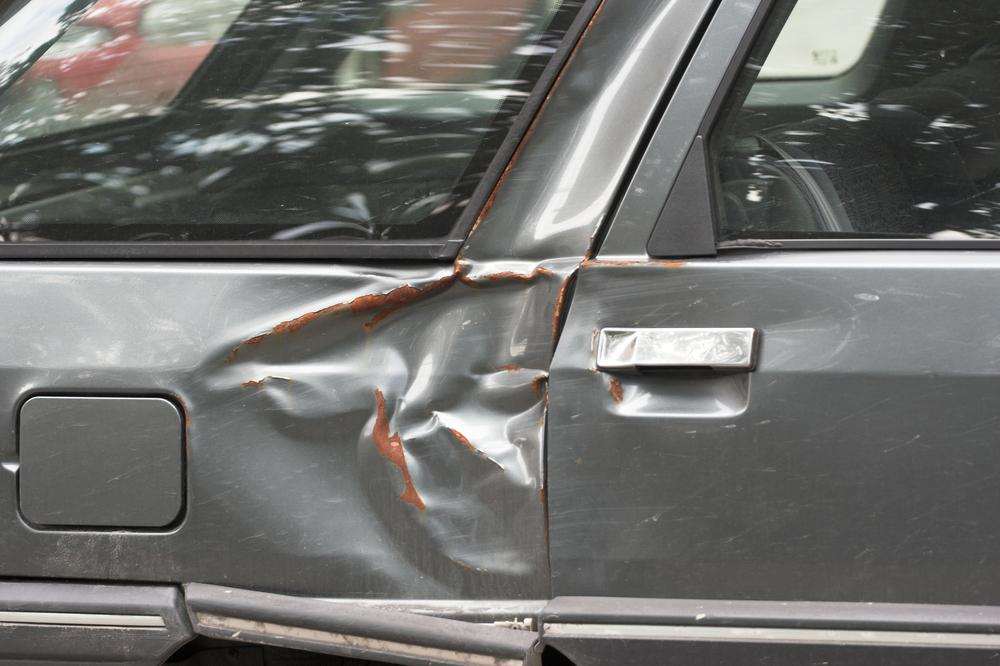dent: (190, 266, 566, 605)
